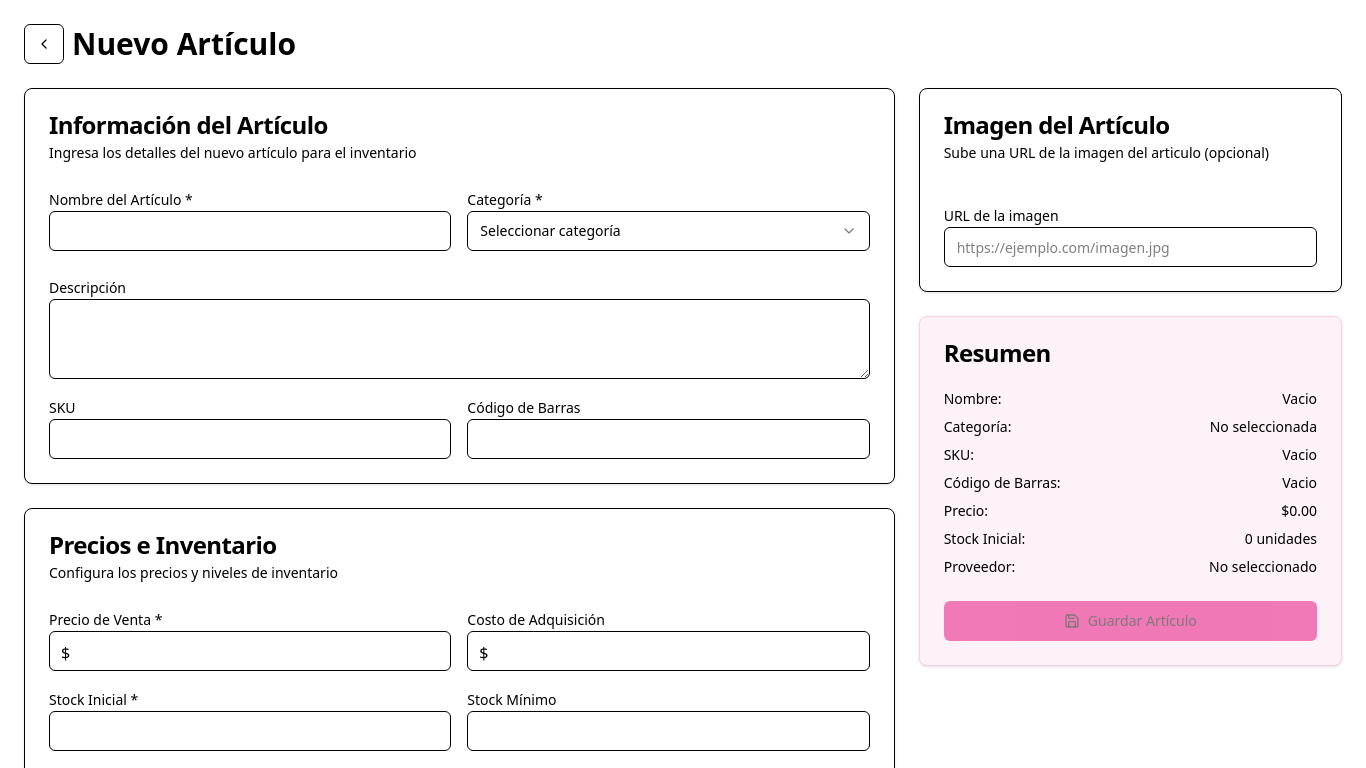
NuevoArticuloPage › muestra resumen correctamente cuando se completan campos
Type "Zapatos" into the field labelled "Nombre del Artículo *".
click(250, 231); type("Zapatos")  # box [49,211,451,251]
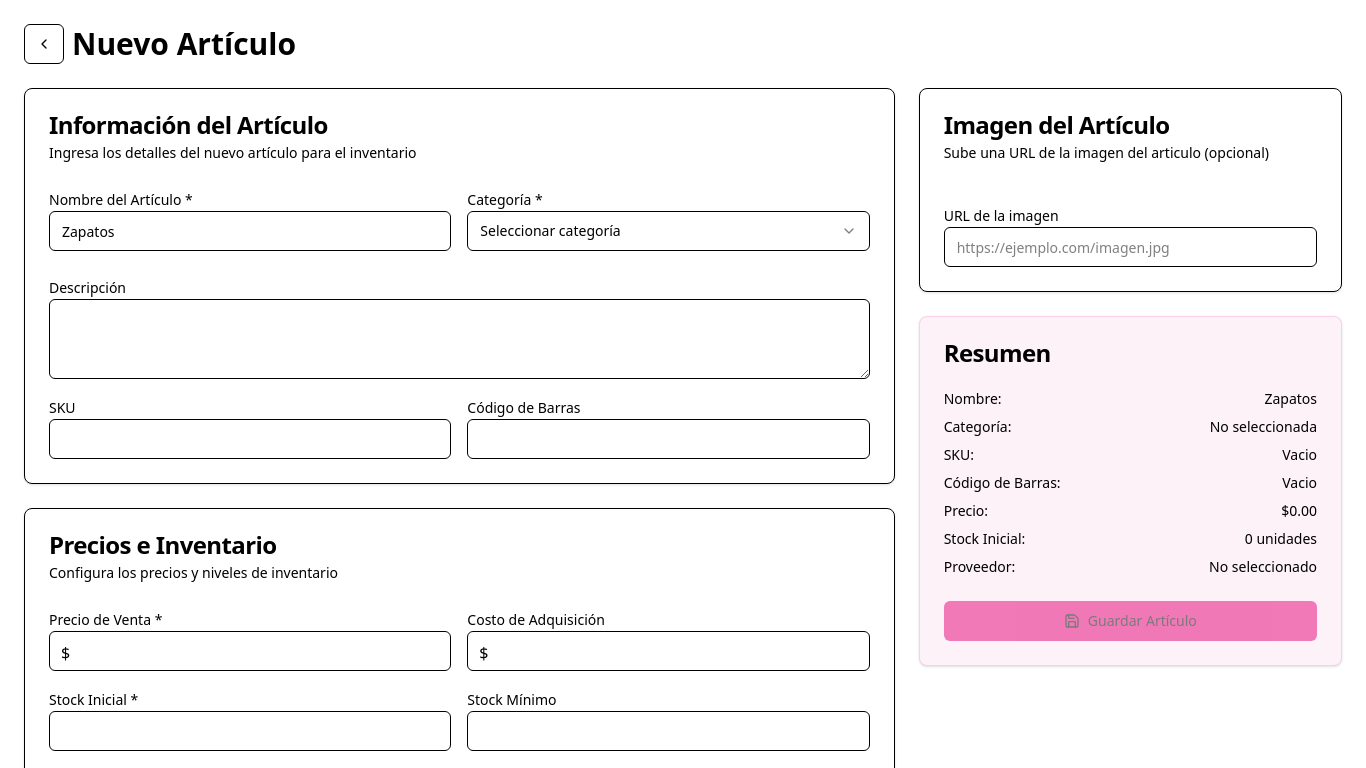
Type "299" into the number field labelled "Precio de Venta *".
click(250, 651); type("299")  # box [49,631,451,671]
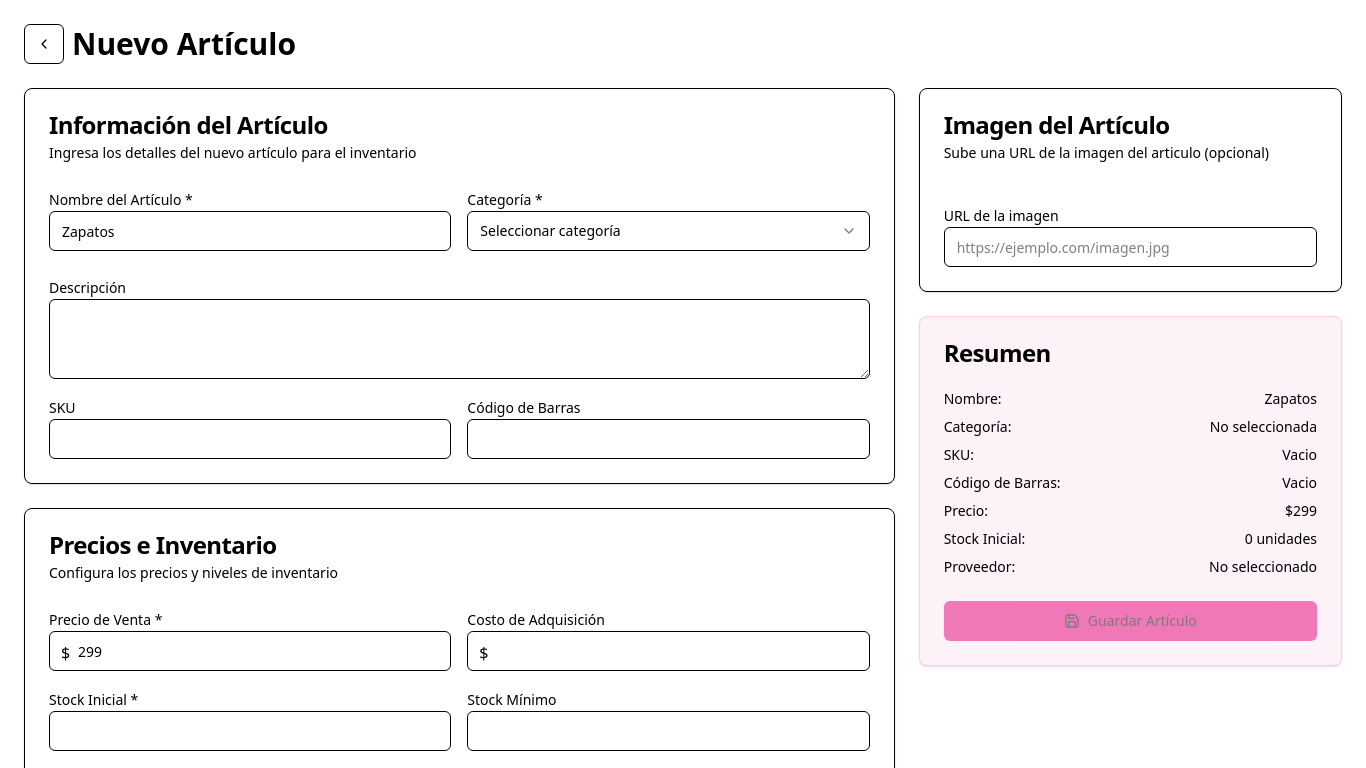
Type "5" into the number field labelled "Stock Inicial *".
click(250, 731); type("5")  # box [49,711,451,751]
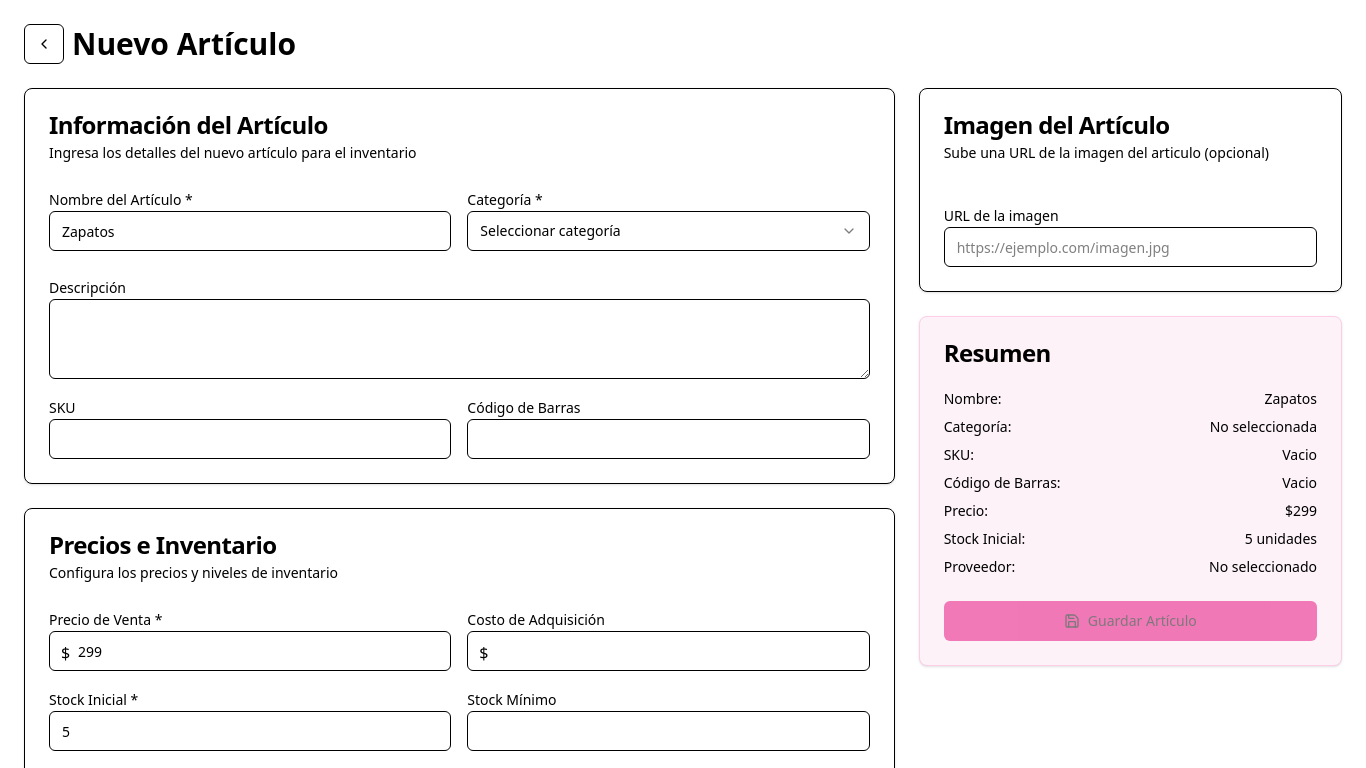
Result: the text "Zapatos" is shown at [1264,389,1317,409]
Result: the text "$299" is shown at [1285,501,1317,521]
Result: the text "5 unidades" is shown at [1245,529,1317,549]
